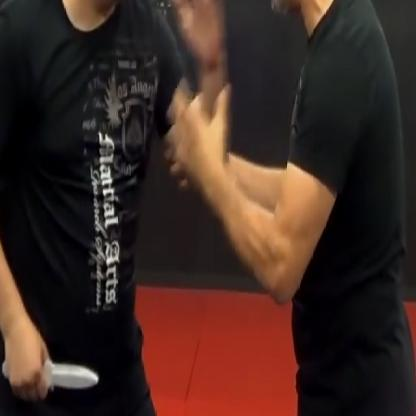knife: (0, 352, 105, 404)
